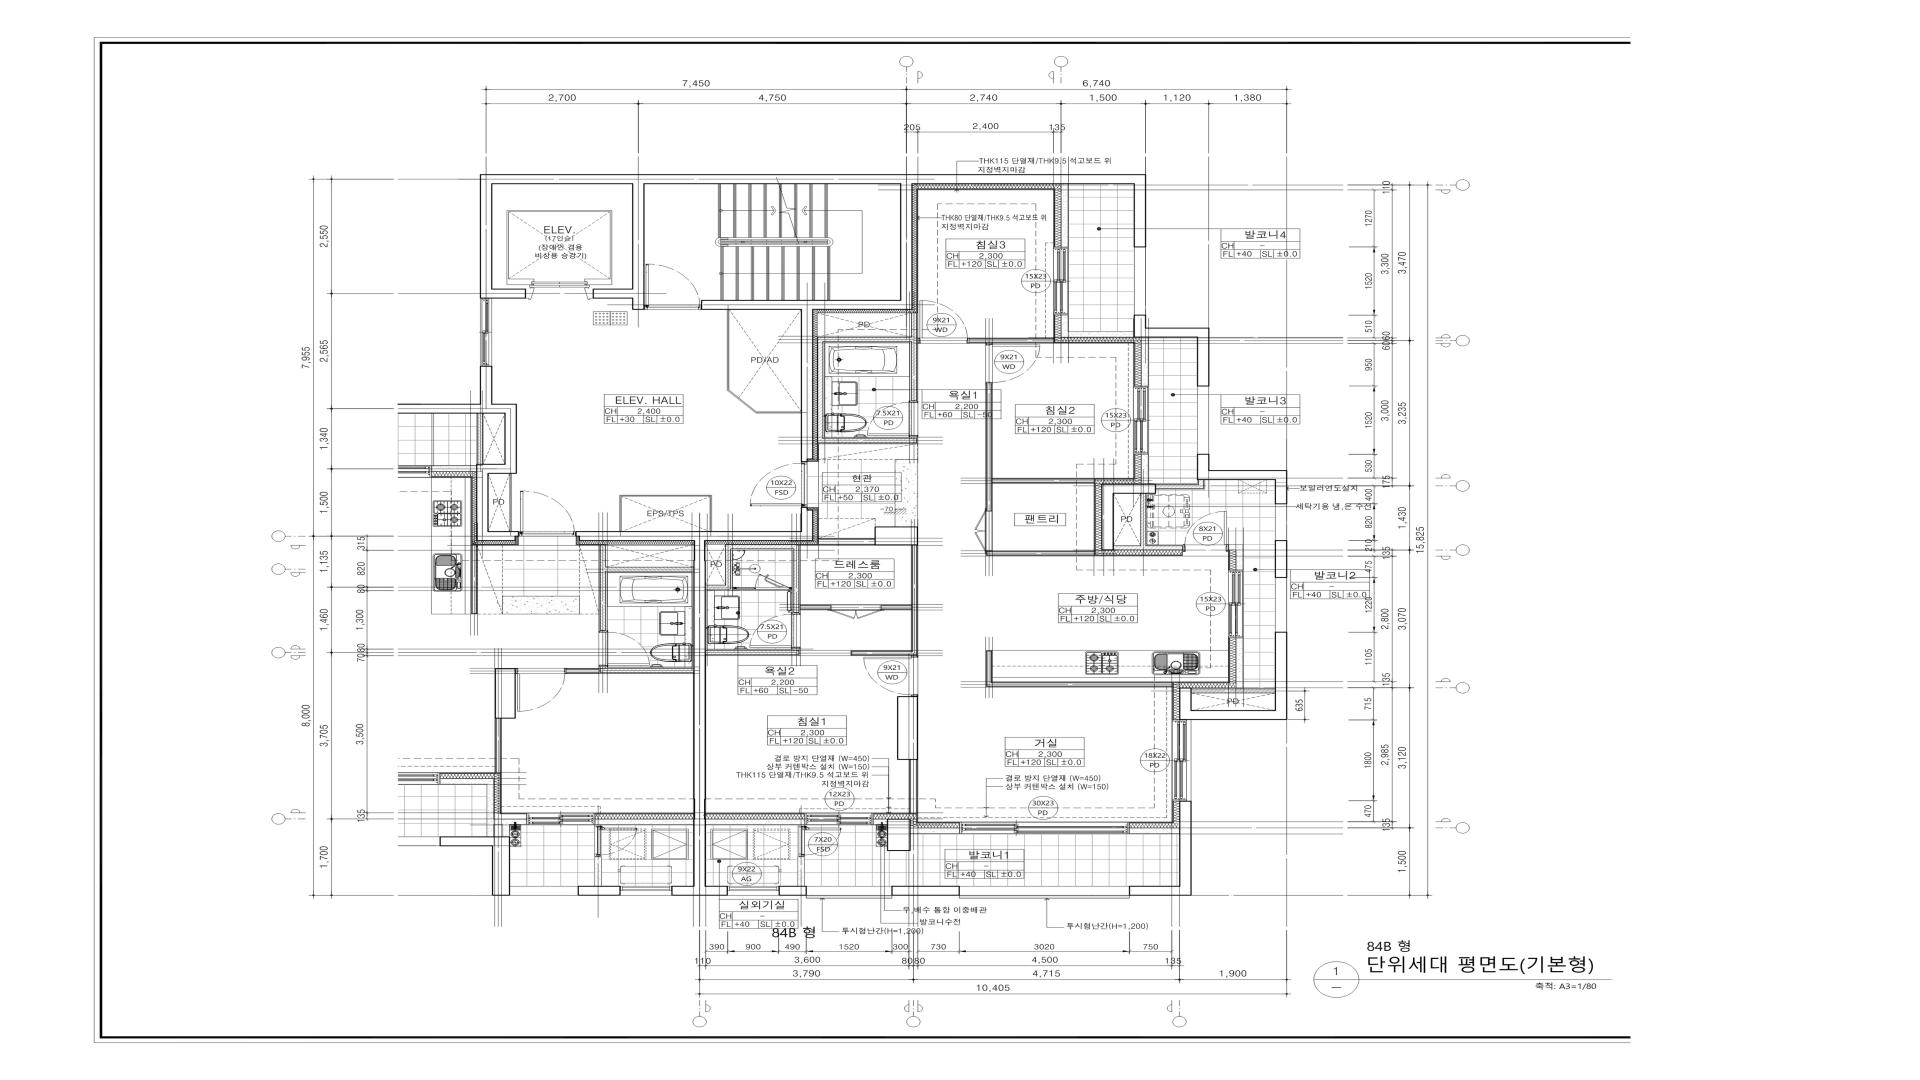background: (0, 0, 1920, 1080)
door: (749, 463, 808, 508), (645, 264, 702, 310), (918, 301, 969, 344), (985, 344, 1040, 384), (864, 657, 919, 696), (1183, 510, 1229, 551), (868, 401, 919, 436), (749, 613, 800, 649), (798, 824, 841, 857), (733, 572, 793, 591), (831, 604, 882, 620), (976, 512, 993, 551), (799, 650, 851, 657)
wall: (480, 174, 1146, 185), (694, 541, 705, 886), (575, 531, 814, 541), (800, 310, 814, 463), (702, 301, 913, 310), (632, 183, 645, 310), (901, 185, 913, 301), (897, 696, 918, 760), (480, 185, 492, 289), (1179, 800, 1192, 886), (985, 384, 993, 512), (1179, 711, 1287, 720), (985, 682, 1174, 687), (1275, 632, 1287, 711), (874, 526, 918, 546), (1197, 471, 1287, 480), (1134, 327, 1209, 338), (476, 473, 489, 531), (887, 819, 911, 851), (1134, 185, 1146, 248), (985, 550, 1096, 556), (728, 389, 757, 413), (911, 546, 918, 650), (993, 477, 1096, 484), (1102, 493, 1114, 550), (705, 819, 806, 825), (818, 436, 916, 443), (891, 886, 959, 895), (705, 649, 799, 655), (505, 414, 517, 464), (1197, 338, 1209, 386), (1130, 886, 1192, 895), (1060, 185, 1069, 247), (818, 342, 823, 439), (1101, 484, 1156, 493), (909, 760, 918, 814), (1062, 331, 1134, 338), (911, 313, 916, 401), (480, 365, 492, 404), (969, 338, 1054, 343), (1191, 688, 1275, 694), (819, 538, 874, 546), (1275, 541, 1287, 578), (480, 289, 526, 298), (592, 289, 632, 299), (476, 531, 520, 541), (1236, 638, 1244, 688), (480, 404, 517, 414), (1141, 338, 1149, 386), (1155, 480, 1204, 488), (476, 464, 517, 473), (692, 885, 728, 895), (818, 338, 911, 342), (1229, 545, 1244, 570), (794, 545, 799, 613), (851, 650, 918, 655), (1129, 828, 1179, 835), (910, 828, 960, 835), (800, 506, 814, 531), (1179, 688, 1192, 711), (1275, 480, 1287, 504), (1141, 493, 1146, 546), (1114, 546, 1183, 550), (725, 545, 794, 549), (778, 886, 806, 895), (985, 650, 993, 682), (620, 495, 712, 497), (725, 549, 732, 585), (1141, 454, 1149, 484), (727, 310, 729, 390), (1197, 454, 1209, 471), (800, 604, 831, 611), (798, 857, 804, 886), (882, 604, 911, 611), (509, 473, 512, 531), (1134, 315, 1146, 327), (705, 584, 731, 589), (1062, 315, 1069, 331), (756, 411, 800, 414), (873, 819, 887, 825), (709, 497, 712, 531), (620, 497, 621, 531)
window: (959, 886, 1130, 898), (960, 822, 1129, 833), (1172, 720, 1192, 800), (1228, 571, 1245, 638), (1133, 386, 1150, 454), (1054, 247, 1069, 315), (806, 886, 893, 898), (804, 812, 873, 825), (1134, 247, 1147, 315), (480, 298, 492, 365), (1197, 386, 1209, 454), (1275, 578, 1287, 632), (728, 886, 779, 895), (1275, 504, 1287, 541)
